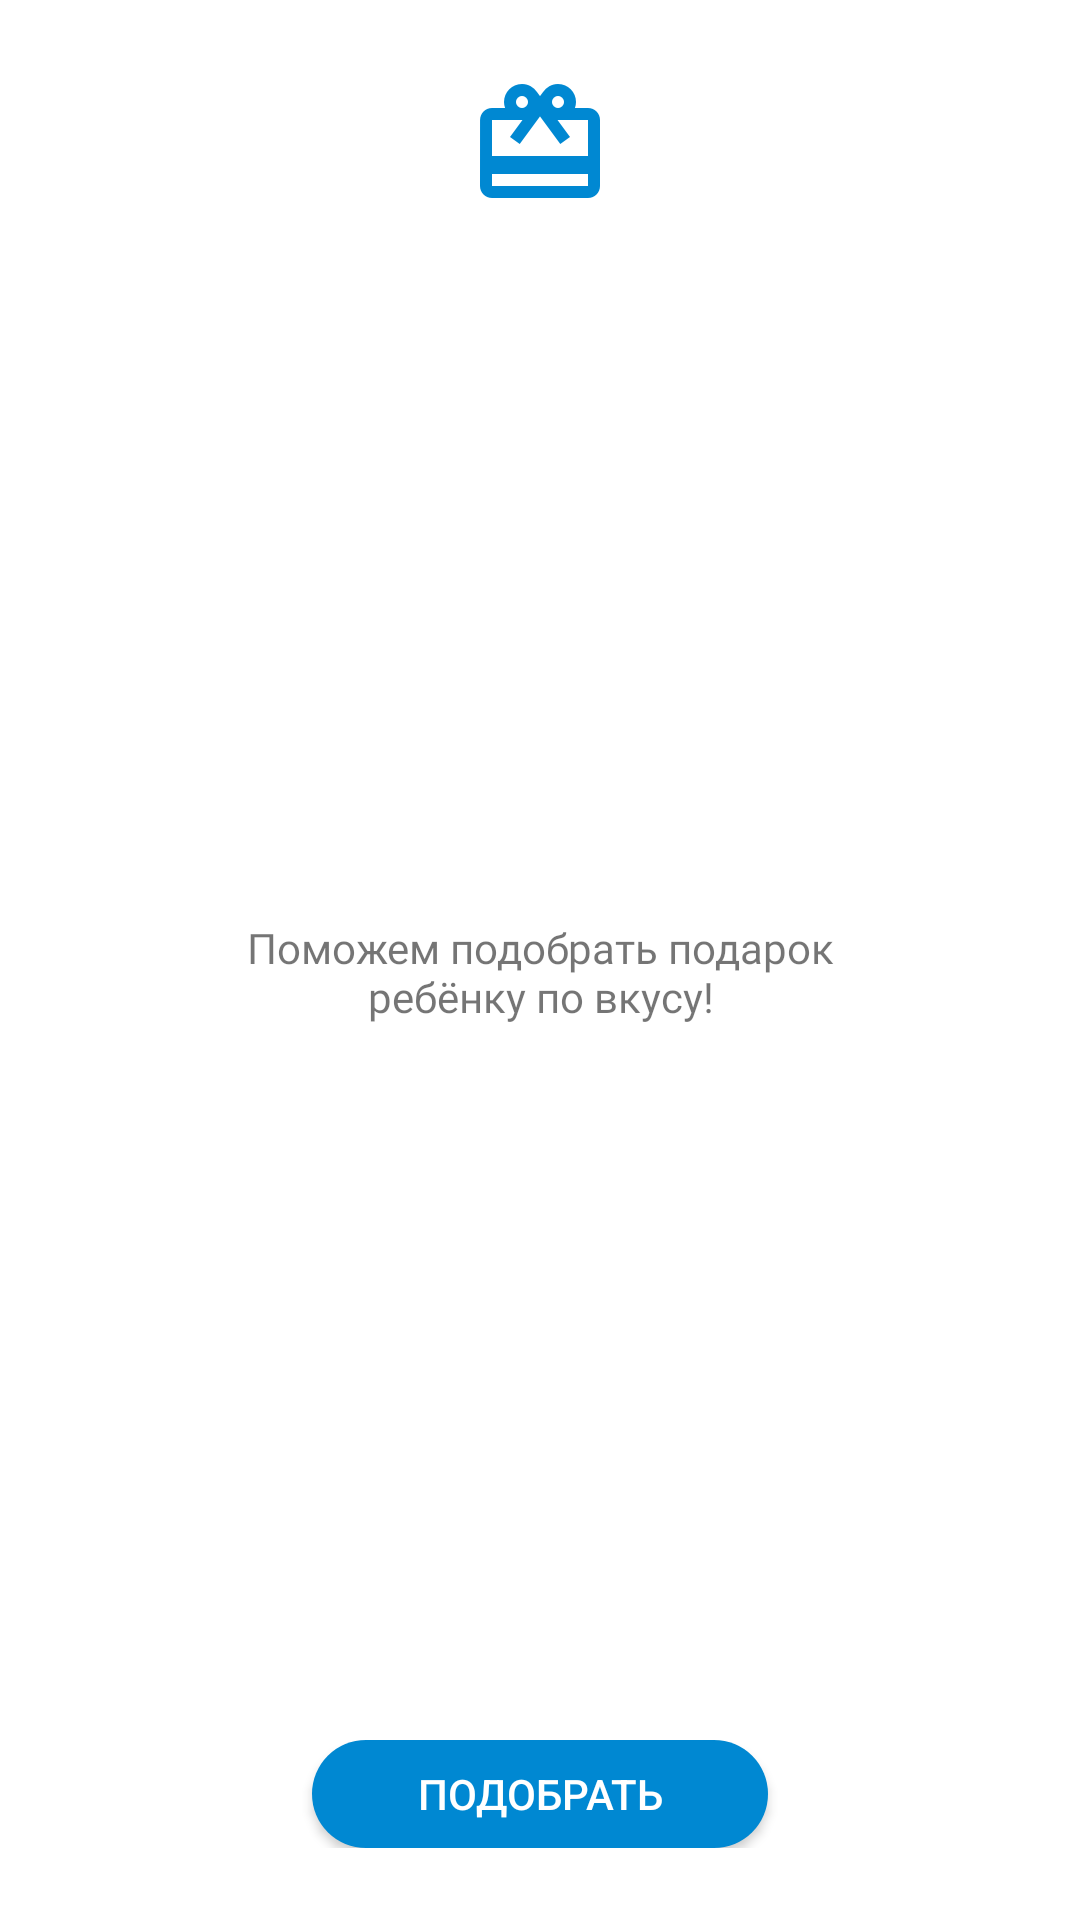

Icons on this 1080x1920 Android screen, each with the point to tap as (x=x, y=y):
gift: (x=540, y=141)
